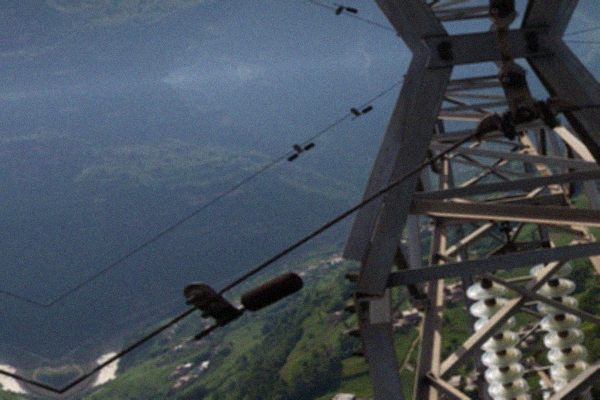damper: (286, 140, 316, 163)
damper_defect: (182, 269, 307, 344), (346, 104, 373, 122), (329, 2, 358, 18)
